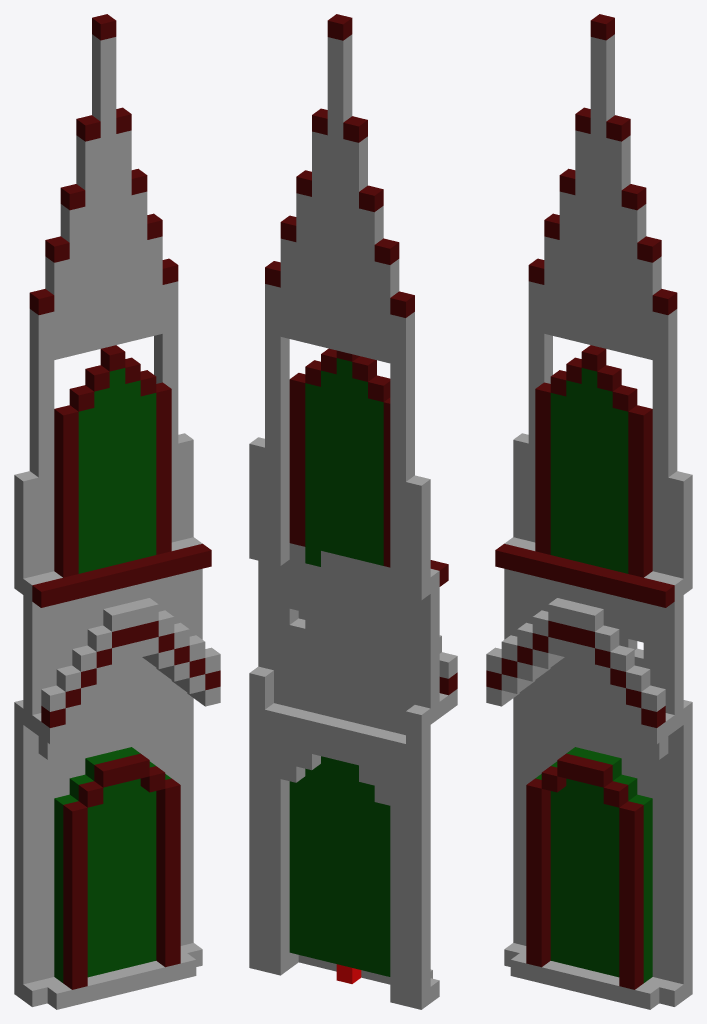
Rendered from church.cube.obj.
3 views of the same model, side by side, from view 1: azimuth 30°, elevation 25°; view 2: azimuth 150°, elevation 25°; view 3: azimuth 330°, elevation 25° (orthographic).
Bounding box in the file's own units: 11 × 59 × 4.
1 material, 1 textured.
